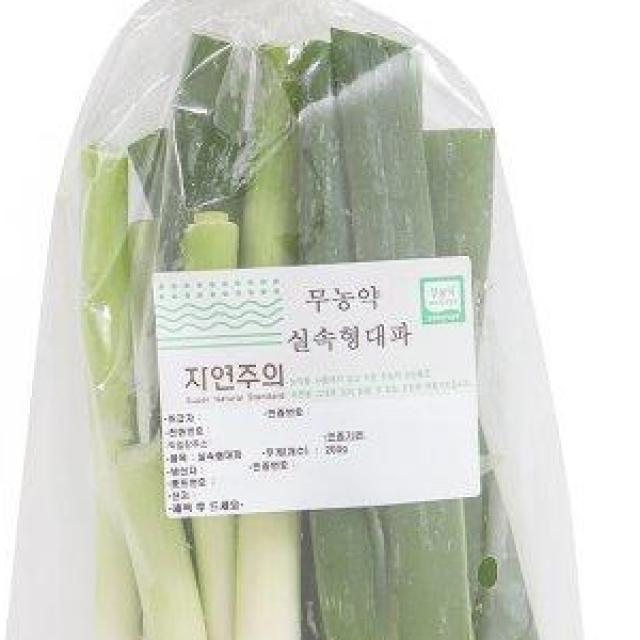greenonion: (92, 94, 546, 640)
